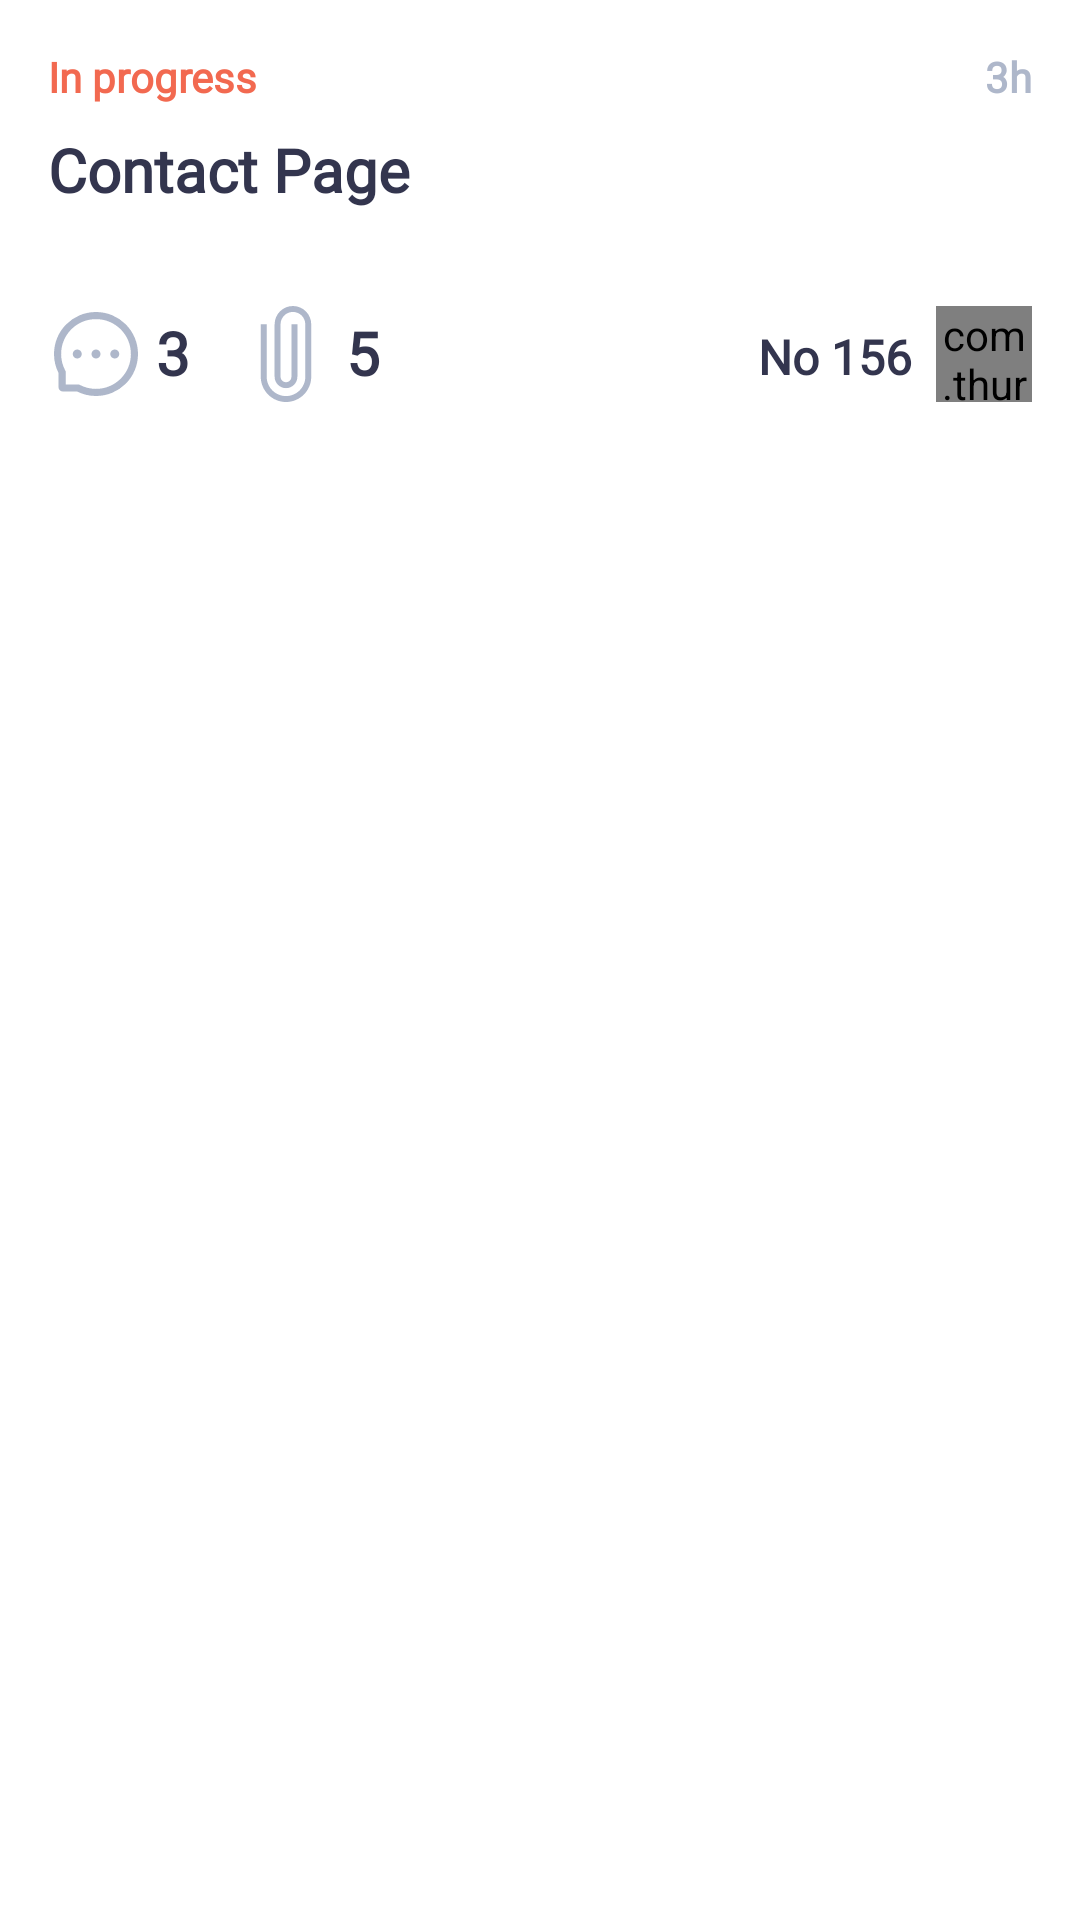

Named icons in this screenshot (1080px x 1920px) and their bounding boxes, (x1, y1, x2, y2):
message: (54, 312, 138, 396)
paperclip: (261, 306, 311, 402)
